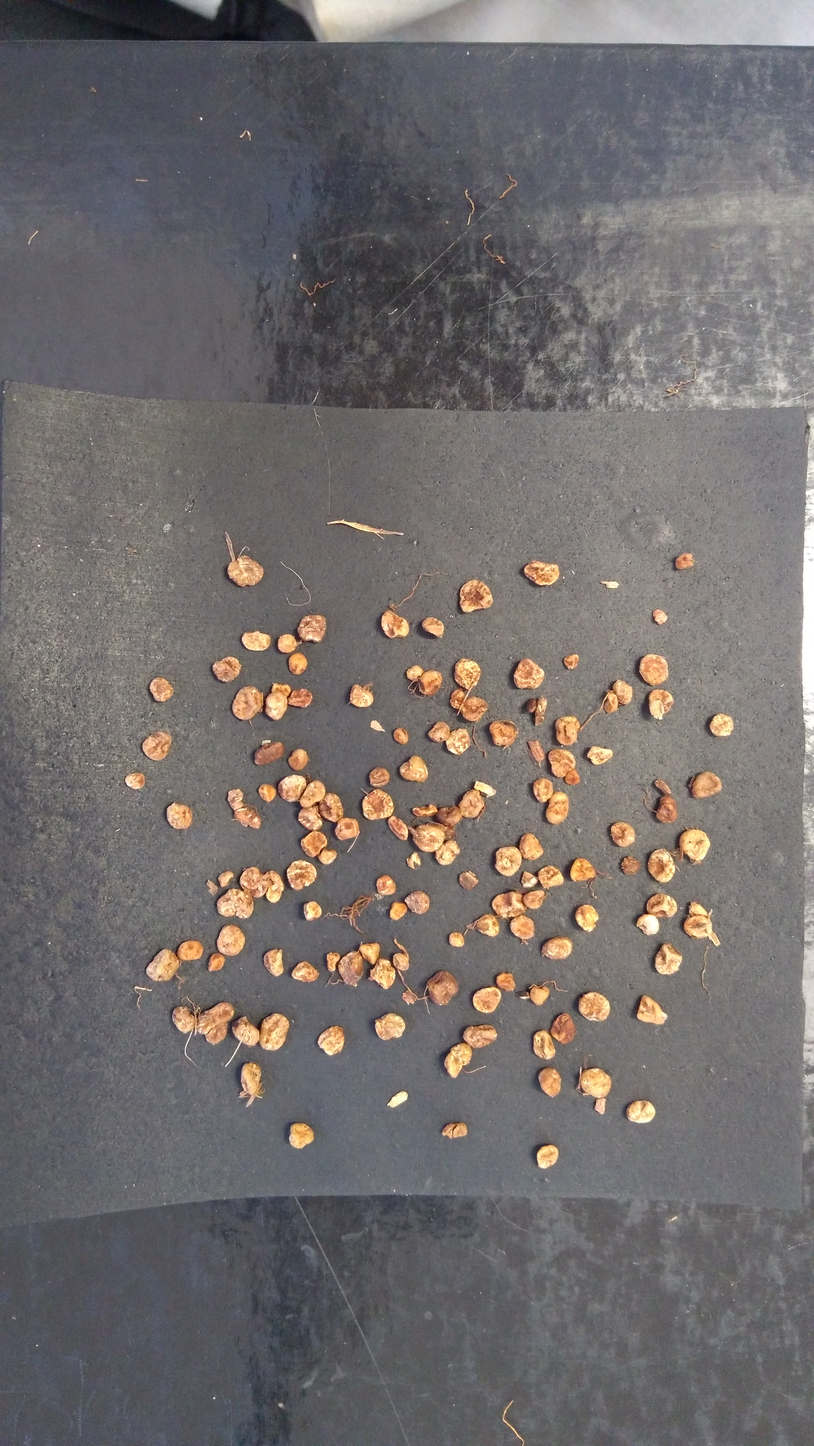nodule: (671, 824, 725, 871), (452, 573, 503, 620), (516, 555, 570, 598), (212, 888, 265, 922), (424, 966, 463, 1011), (256, 1010, 292, 1058), (576, 1061, 616, 1103), (224, 553, 268, 591), (574, 988, 617, 1026), (632, 991, 670, 1034), (685, 770, 731, 805), (635, 646, 676, 685), (647, 848, 683, 892), (368, 1009, 413, 1044), (144, 944, 182, 985), (194, 998, 235, 1036), (137, 727, 179, 764), (440, 1040, 478, 1080), (313, 1022, 349, 1064), (652, 937, 687, 980), (293, 609, 332, 647), (230, 684, 265, 726), (213, 922, 251, 960), (622, 1096, 664, 1130), (449, 688, 489, 723), (161, 798, 202, 832), (406, 820, 448, 853), (512, 653, 549, 690), (238, 862, 275, 899), (449, 656, 485, 694), (375, 607, 414, 642), (360, 783, 395, 822), (203, 653, 246, 684), (396, 752, 434, 787), (531, 1140, 569, 1175), (488, 890, 530, 921), (227, 1011, 260, 1050), (548, 1010, 581, 1048), (490, 842, 523, 879), (642, 891, 679, 924), (141, 673, 183, 702), (248, 738, 286, 770), (706, 707, 738, 745), (443, 727, 483, 757), (286, 1118, 321, 1152), (538, 932, 574, 965), (297, 824, 329, 861), (236, 1059, 265, 1099), (346, 679, 381, 712), (469, 983, 504, 1016), (286, 858, 318, 894), (457, 785, 487, 823), (529, 1023, 557, 1063), (569, 854, 604, 886), (544, 788, 572, 827), (415, 666, 446, 701), (487, 719, 522, 750), (235, 627, 275, 654), (552, 713, 582, 749), (275, 772, 307, 805), (295, 776, 327, 809), (648, 685, 677, 721), (337, 952, 365, 989), (460, 1023, 501, 1048), (368, 957, 398, 991), (537, 1065, 566, 1100), (583, 741, 619, 769), (610, 672, 637, 709), (545, 748, 576, 780), (169, 1002, 196, 1038), (606, 820, 643, 846), (332, 813, 362, 845), (650, 793, 680, 825), (517, 830, 546, 863), (175, 937, 208, 966), (682, 913, 715, 942), (424, 717, 455, 747), (295, 802, 325, 833), (403, 886, 434, 916), (508, 913, 538, 944), (635, 909, 666, 939), (418, 613, 451, 641), (285, 740, 313, 772), (438, 1117, 472, 1143), (203, 1019, 232, 1049), (573, 902, 602, 932), (432, 837, 463, 865), (319, 791, 344, 825), (537, 861, 566, 890), (357, 940, 386, 969), (285, 684, 315, 712), (670, 545, 697, 576), (262, 944, 286, 978), (363, 765, 393, 792), (120, 770, 150, 797), (474, 912, 504, 939), (234, 805, 265, 831), (297, 898, 329, 923), (287, 647, 313, 677), (385, 812, 411, 842), (435, 803, 464, 829), (262, 870, 283, 904), (273, 632, 305, 654), (530, 777, 556, 804), (373, 873, 398, 901), (559, 646, 581, 677), (600, 687, 622, 717), (648, 602, 673, 628), (224, 786, 247, 814), (528, 984, 553, 1009), (522, 887, 548, 911), (384, 899, 410, 922), (685, 898, 710, 921), (495, 970, 518, 994), (389, 725, 414, 747), (267, 680, 297, 697), (562, 766, 585, 788), (205, 950, 227, 973), (401, 662, 425, 683), (410, 803, 443, 818), (390, 951, 414, 971), (257, 780, 277, 803), (316, 846, 339, 866), (324, 949, 341, 974), (448, 930, 467, 950)
